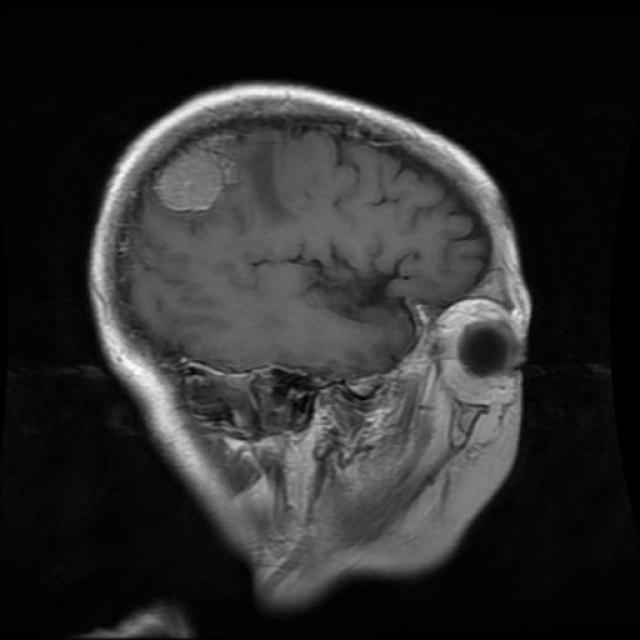meningioma: (152, 146, 220, 214)
